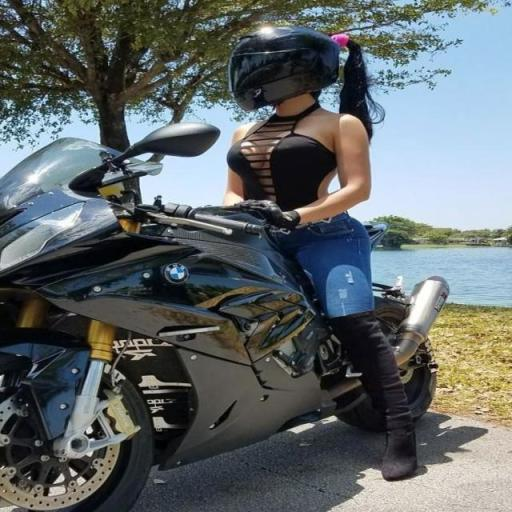Helmet: (228, 27, 339, 110)
Motor: (0, 122, 477, 512)
